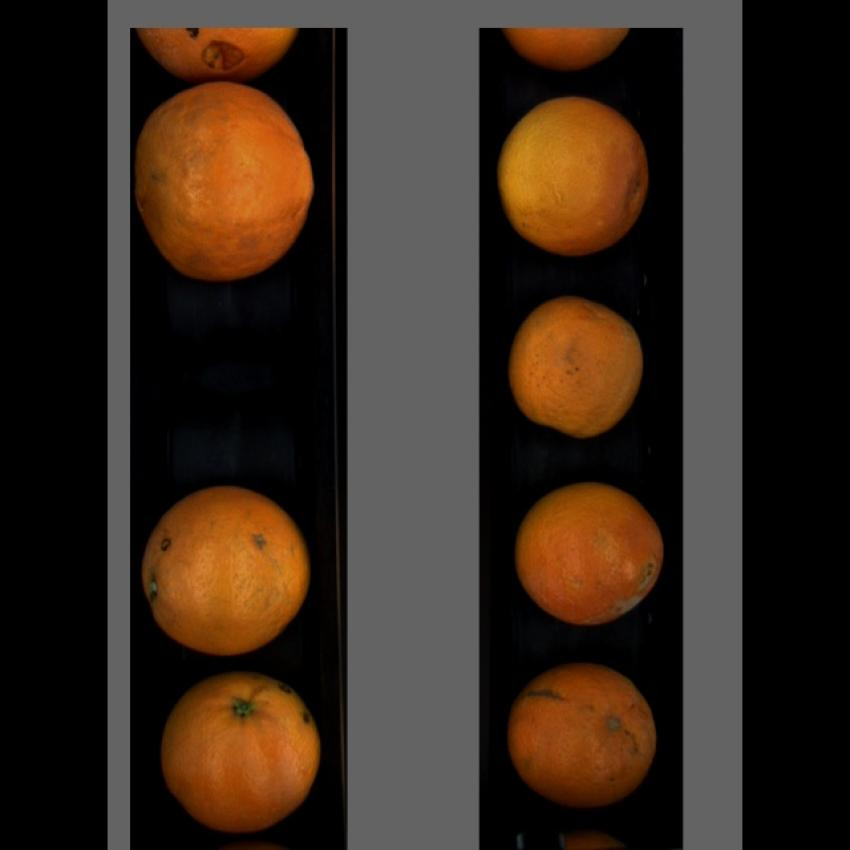Buen estado: (499, 88, 653, 252), (499, 30, 640, 64)
Mal estado: (132, 83, 320, 289), (140, 473, 316, 657), (159, 665, 326, 826), (512, 469, 666, 626), (505, 288, 652, 444), (510, 662, 659, 804), (138, 29, 303, 78)
